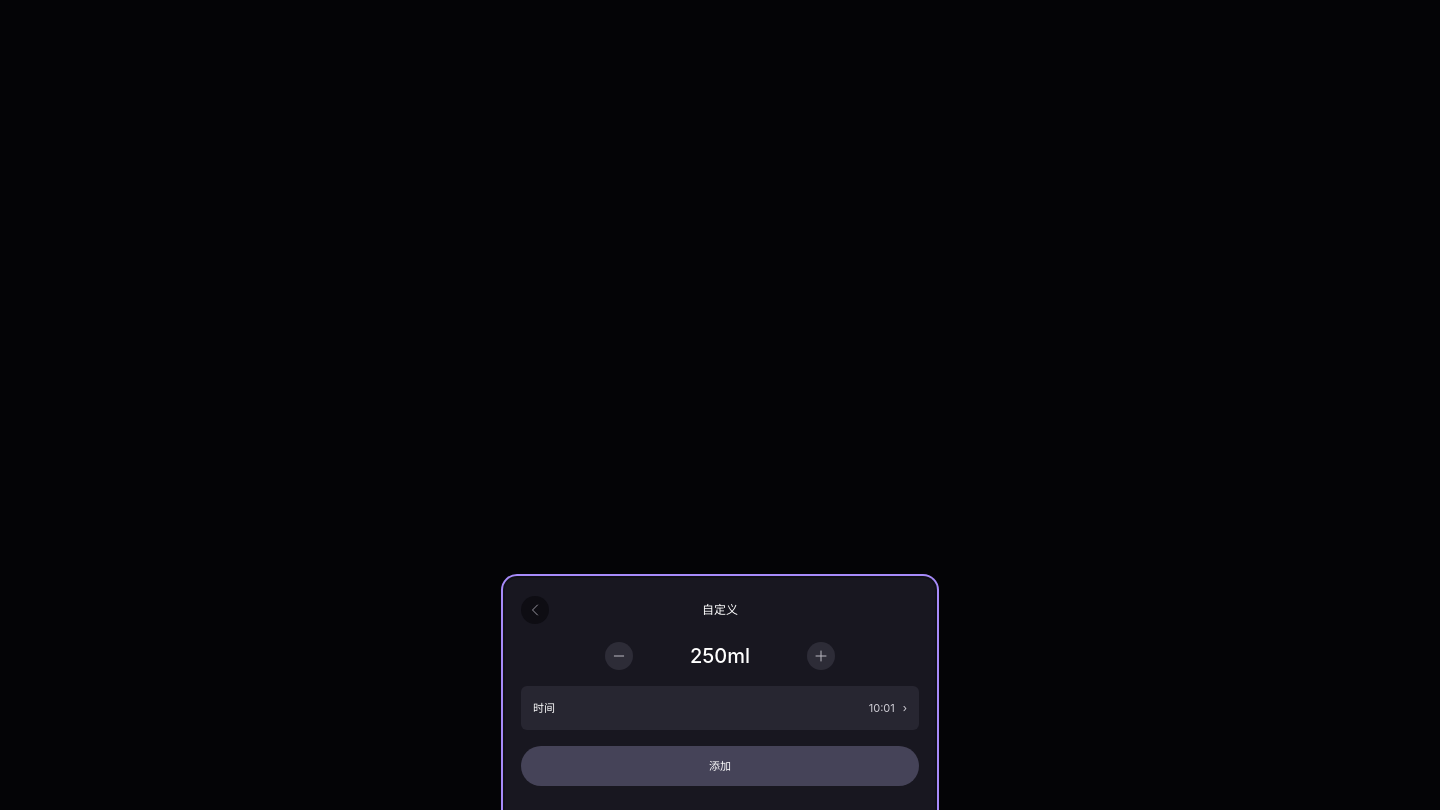
LifeLogEntrySheet › 饮水使用 250ml 为一个单位
Check: the text "250ml" is shown, box [690, 644, 750, 668]
Click the button named "增加": (821, 656) [807, 642, 835, 670]
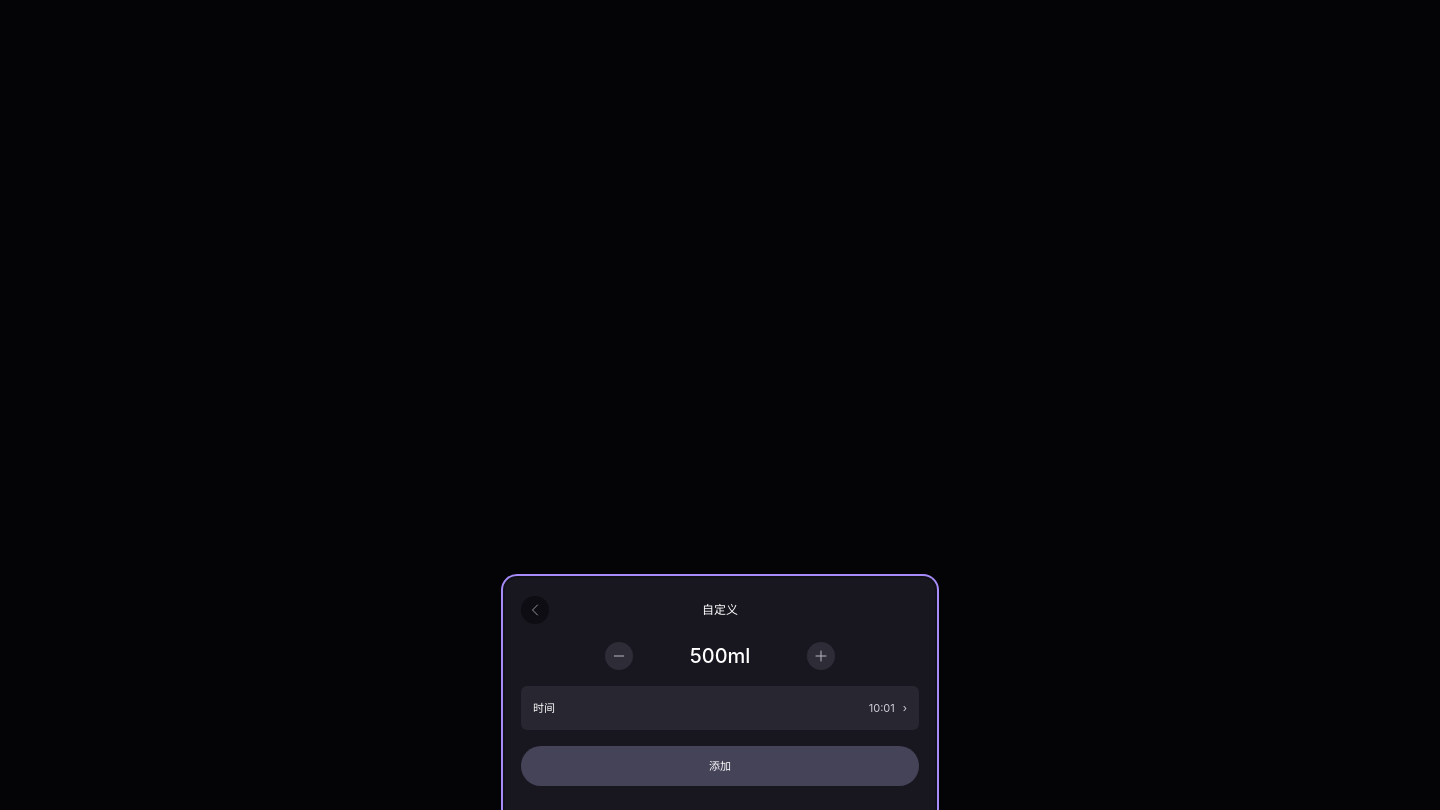
Check: the text "500ml" is shown, box [690, 644, 750, 668]
